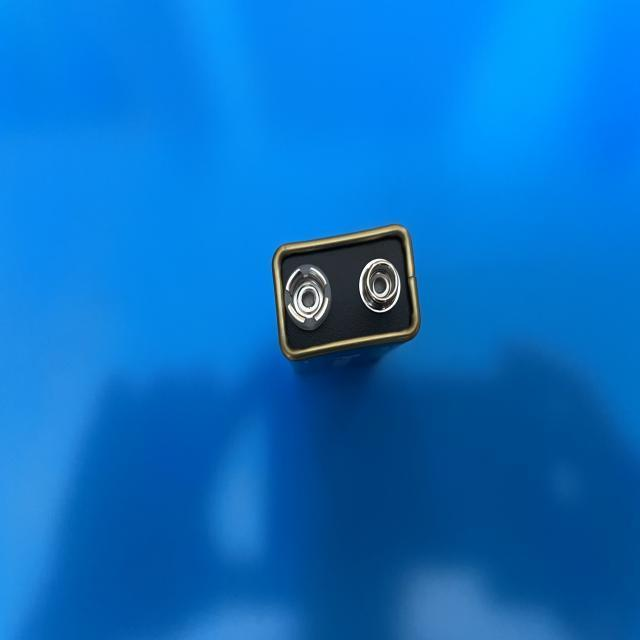9V: (272, 224, 422, 363)
